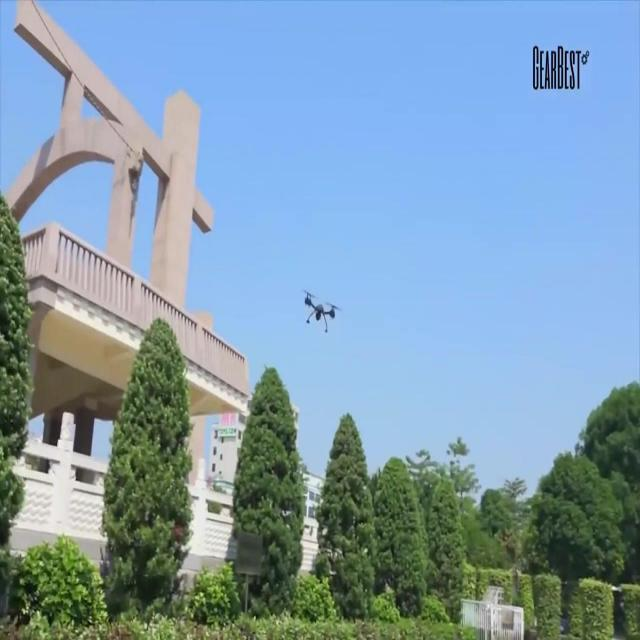UAV: (304, 290, 340, 332)
